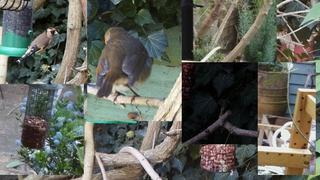goldfinch: (15, 27, 60, 66)
robin: (95, 27, 155, 106)
